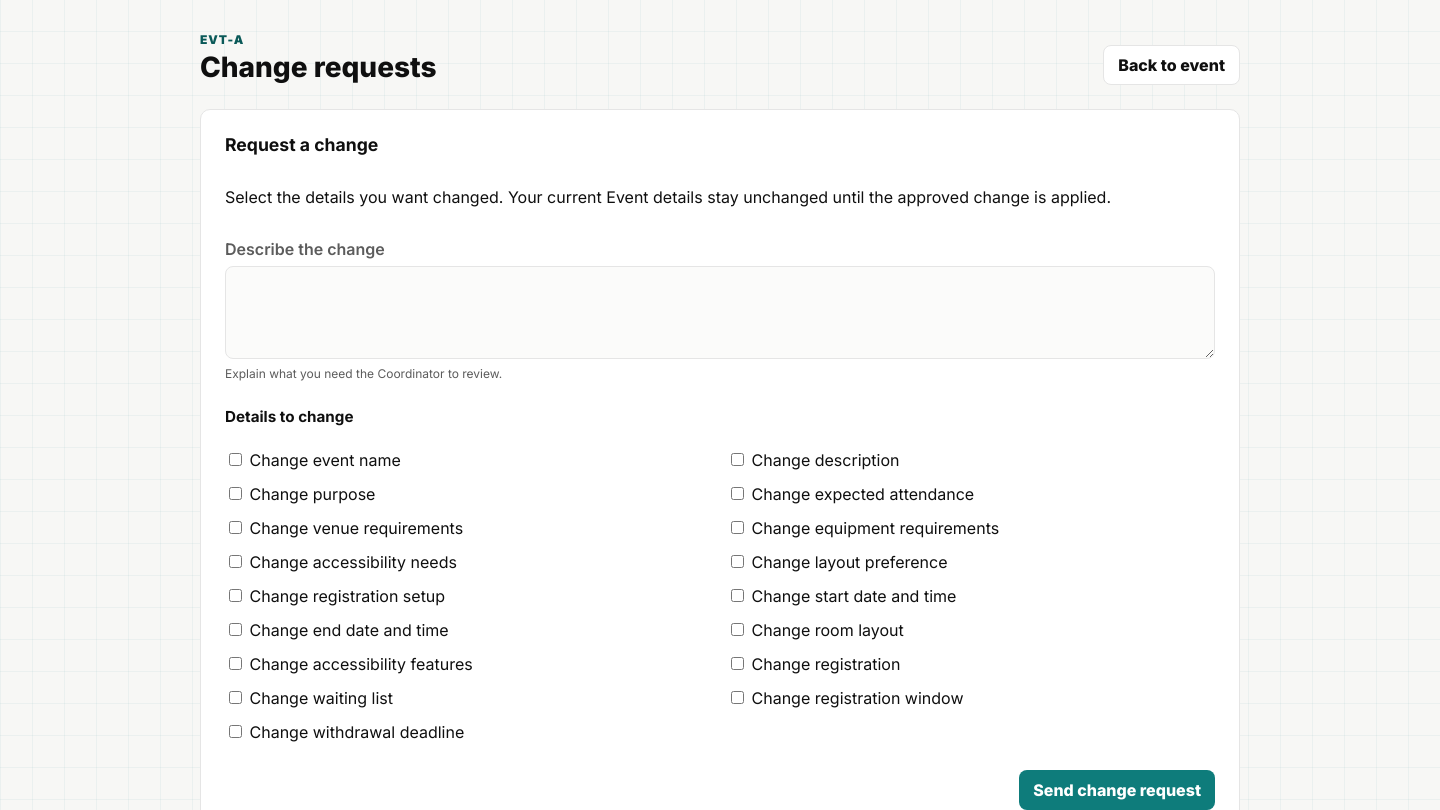
Test: TC_E10S01_01: deselecting a field removes it from submission
The image size is (1440, 810).
Expected: the button "Send change request" is shown, x1=1019 y1=770 x2=1215 y2=809
Step 1. Type "Update" into the text box labelled "Describe the change" → [720, 312], box x1=225 y1=266 x2=1215 y2=359
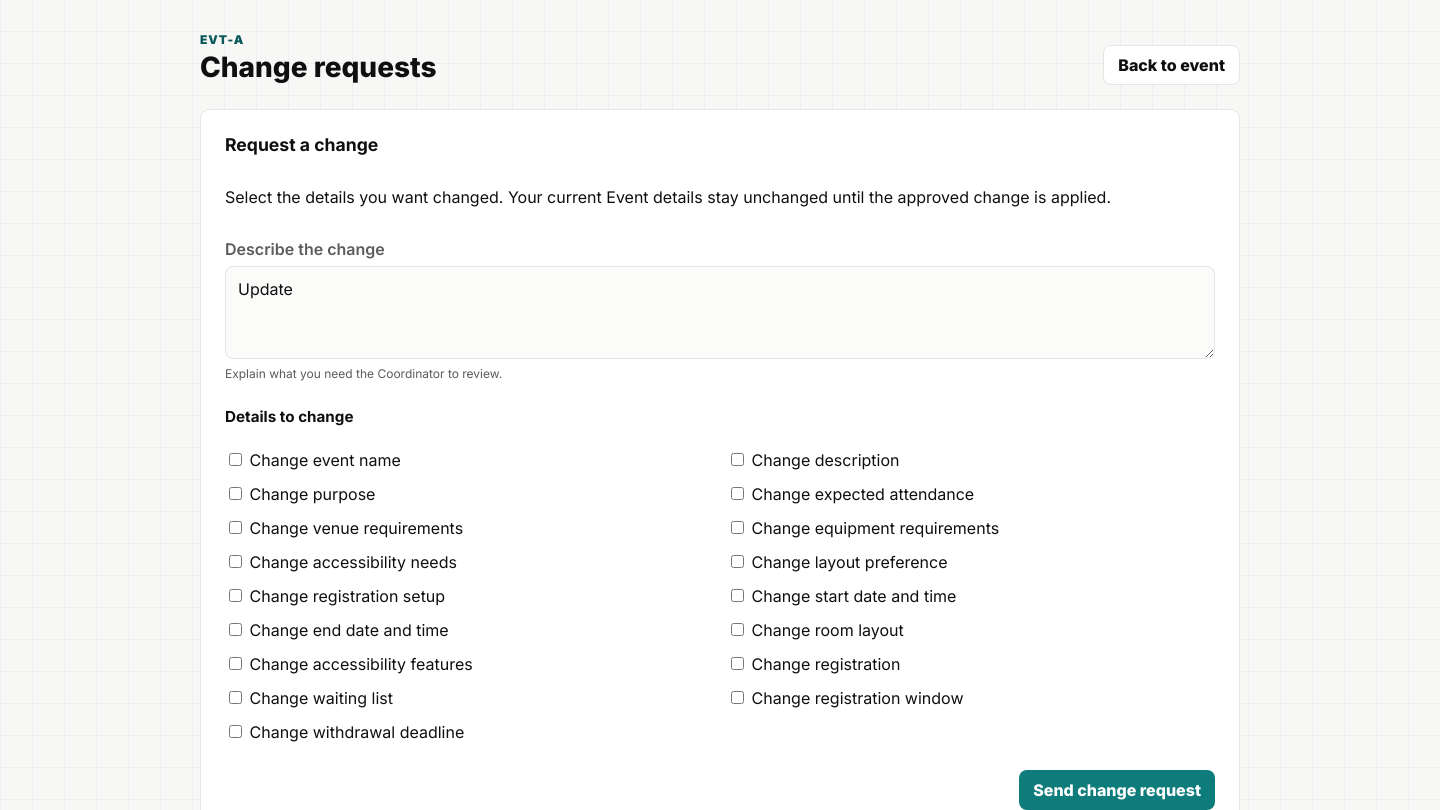
Step 2. Click the checkbox labelled "Change purpose" → [236, 494], box x1=229 y1=487 x2=242 y2=500
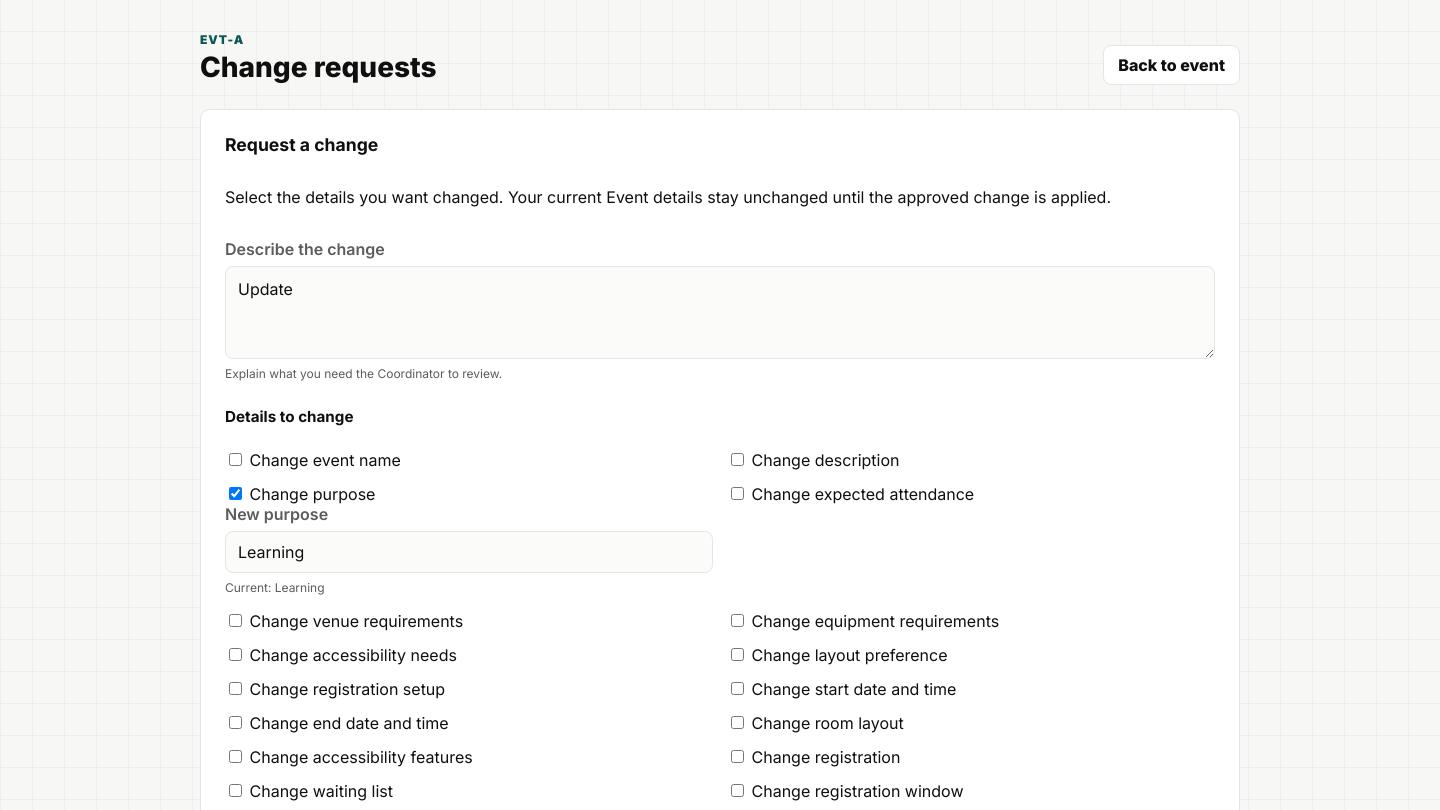
Step 3. Replace the text in the field labelled "New purpose" with "Discard me" → [469, 552], box x1=225 y1=531 x2=713 y2=573
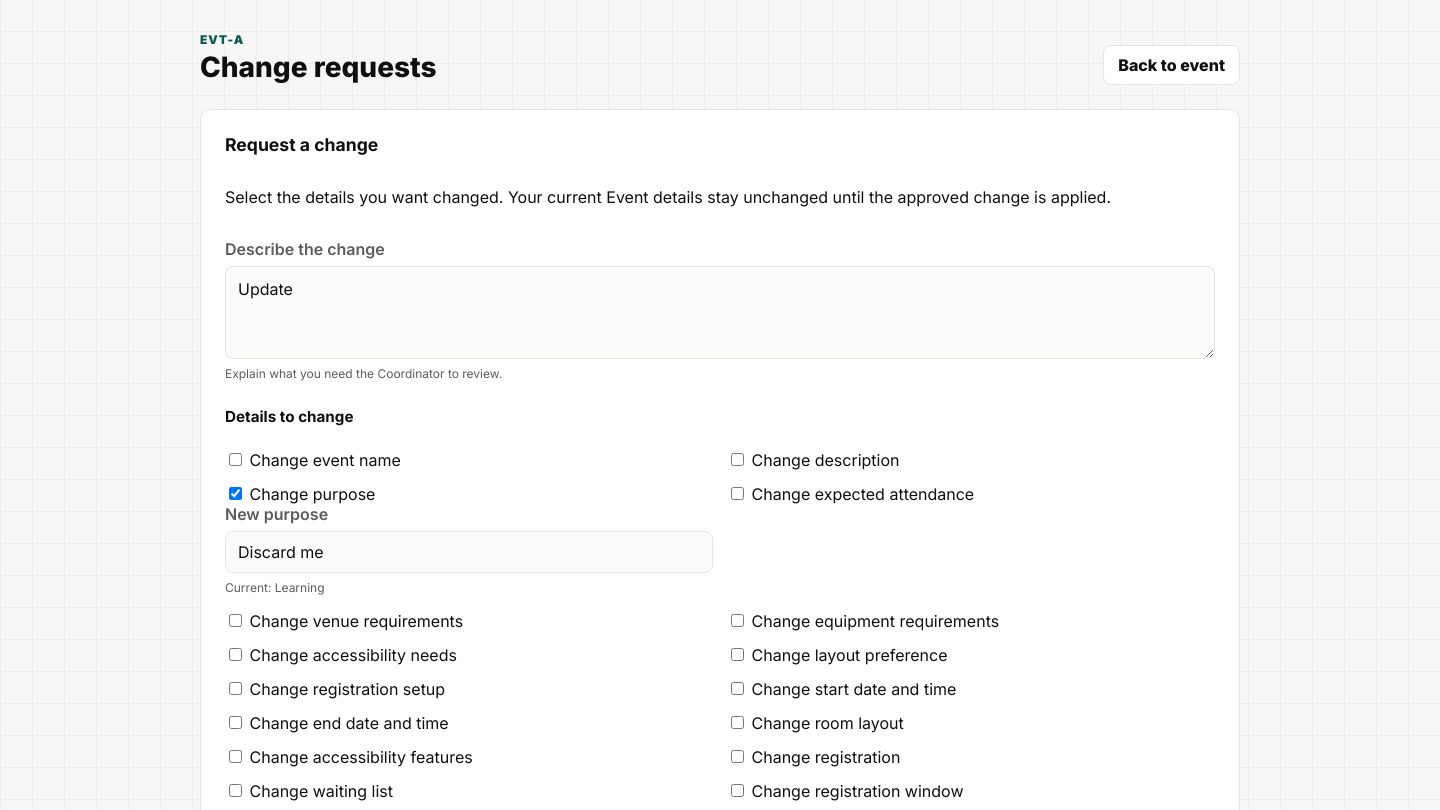
Step 4. Click the checkbox labelled "Change purpose" → [236, 494], box x1=229 y1=487 x2=242 y2=500
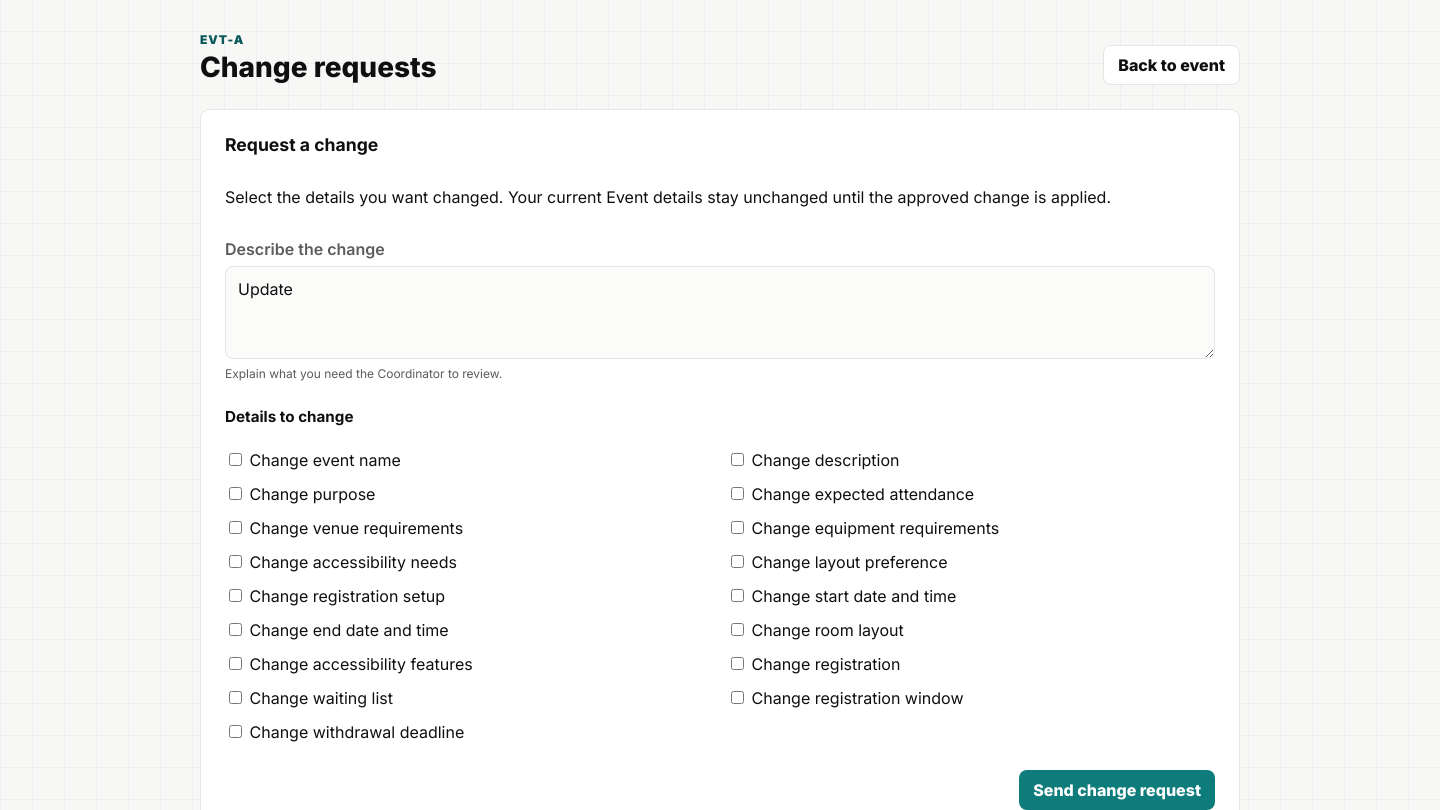
Now the label labelled "New purpose" is gone
Step 5. Click the button "Send change request" → [1117, 790], box x1=1019 y1=770 x2=1215 y2=809
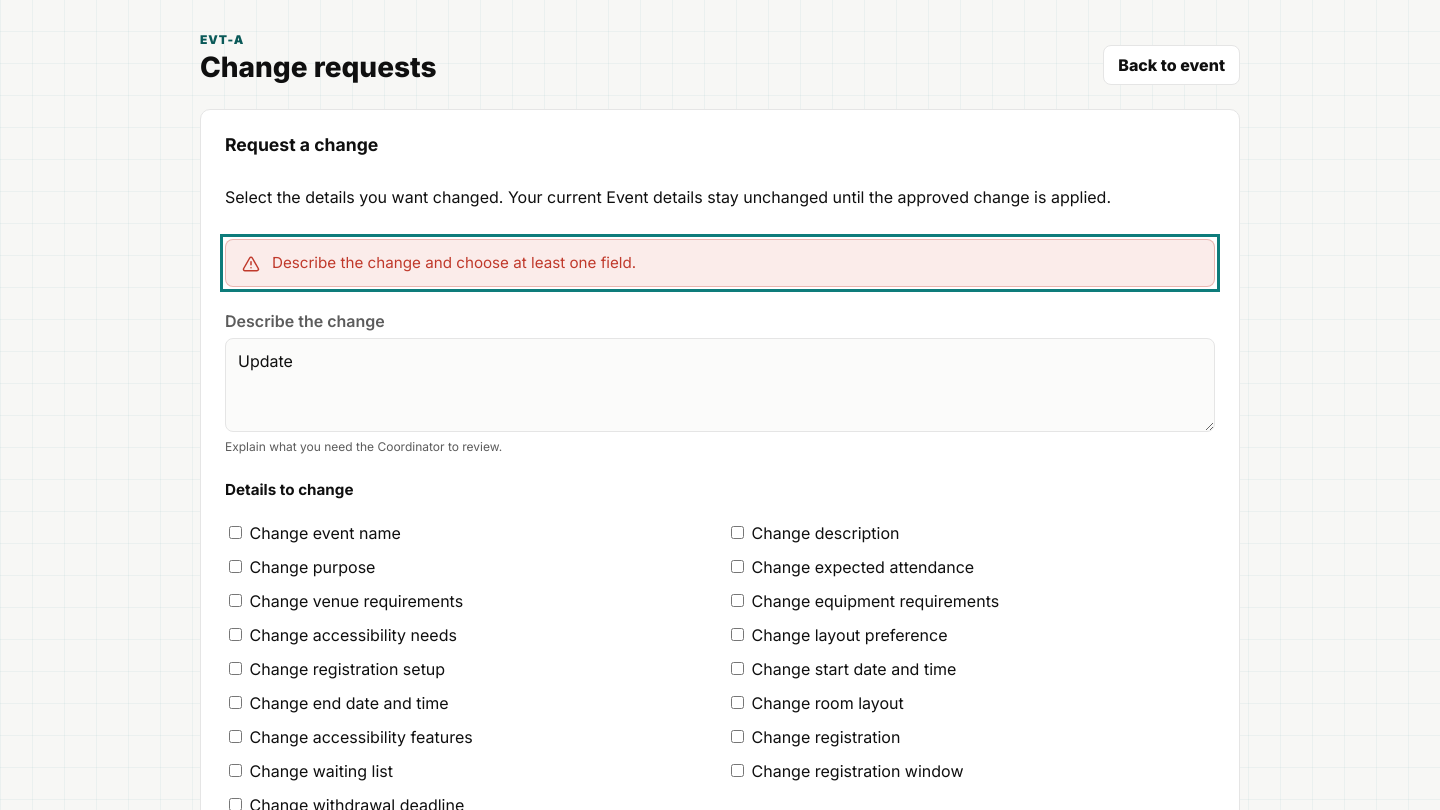
Now the message shows "choose at least one field", box x1=272 y1=253 x2=636 y2=272
